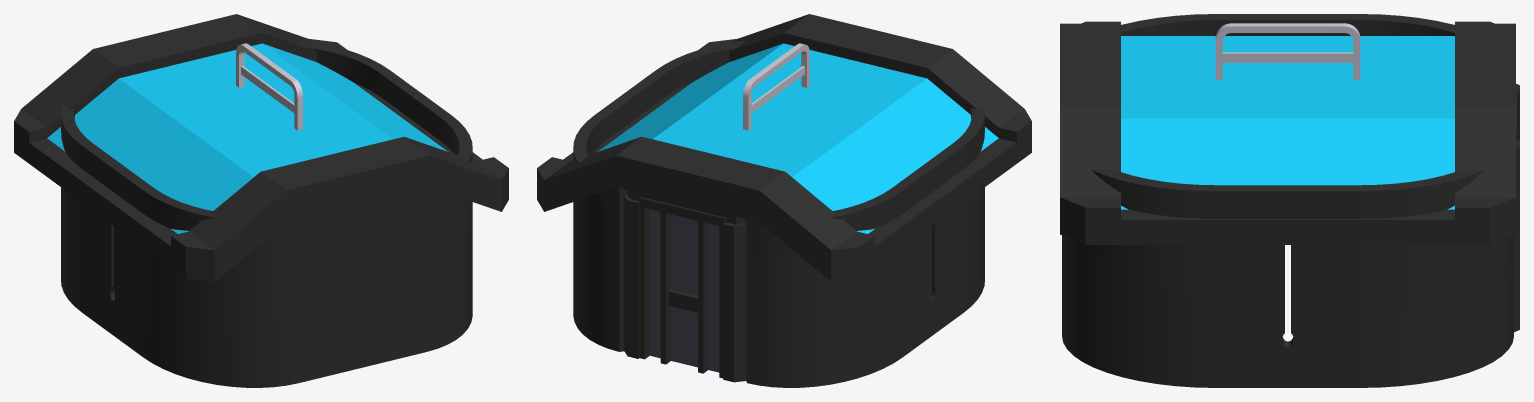
The model's file is CatHouseClosed.fbx.
The picture shows the model from 3 angles, left to right: view 1: azimuth 30°, elevation 25°; view 2: azimuth 150°, elevation 25°; view 3: azimuth 270°, elevation 25°; orthographic projection. The views are drawn at different scales.
Parts seen in each view (by area): view 1: roof_window_87, wall_straight_86, wall_cornerRound%_84, wall_slit_81, wall_cornerRound%_85, wall_cornerRound%_77, wall_slit_78, wall_cornerRound%_76, fence_simple%_88; view 2: roof_window_87, wall_cornerRound%_77, wall_skyscraperDoor%_75, wall_slit_81, wall_cornerRound%_76, wall_border_74, wall_cornerRound%_84, wall_slit_78, wall_cornerRound%_85, fence_simple%_88; view 3: roof_window_87, wall_slit_78, wall_cornerRound%_76, wall_cornerRound%_85, fence_simple%_88, wall_slit_81, wall_cornerRound%_77, wall_cornerRound%_84, wall_border_74.
Part boxes in pixels (left/top/right/bottom): roof_window_87: left=14, top=14, right=508, bottom=281; wall_straight_86: left=299, top=188, right=426, bottom=382; wall_cornerRound%_84: left=143, top=187, right=298, bottom=387; wall_slit_81: left=82, top=142, right=153, bottom=356; wall_cornerRound%_85: left=426, top=114, right=472, bottom=351; wall_cornerRound%_77: left=61, top=105, right=92, bottom=312; wall_slit_78: left=379, top=69, right=451, bottom=140; wall_cornerRound%_76: left=300, top=41, right=389, bottom=95; fence_simple%_88: left=236, top=43, right=302, bottom=130; roof_window_87: left=537, top=14, right=1031, bottom=281; wall_cornerRound%_77: left=745, top=187, right=902, bottom=387; wall_skyscraperDoor%_75: left=627, top=190, right=745, bottom=378; wall_slit_81: left=892, top=141, right=963, bottom=356; wall_cornerRound%_76: left=573, top=114, right=627, bottom=351; wall_border_74: left=624, top=195, right=746, bottom=382; wall_cornerRound%_84: left=954, top=105, right=984, bottom=312; wall_slit_78: left=594, top=69, right=666, bottom=140; wall_cornerRound%_85: left=656, top=41, right=745, bottom=95; fence_simple%_88: left=743, top=43, right=809, bottom=130; roof_window_87: left=1060, top=21, right=1515, bottom=244; wall_slit_78: left=1207, top=185, right=1367, bottom=387; wall_cornerRound%_76: left=1352, top=169, right=1513, bottom=387; wall_cornerRound%_85: left=1062, top=169, right=1221, bottom=387; fence_simple%_88: left=1215, top=23, right=1360, bottom=79; wall_slit_81: left=1207, top=14, right=1367, bottom=35; wall_cornerRound%_77: left=1352, top=14, right=1454, bottom=35; wall_cornerRound%_84: left=1121, top=14, right=1221, bottom=35; wall_border_74: left=1514, top=83, right=1519, bottom=332.
Size of the model in its own units: 30.38 by 21.05 by 31.77.
